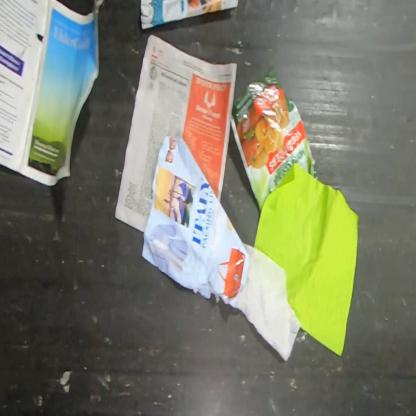soft_plastic: (229, 70, 319, 213)
